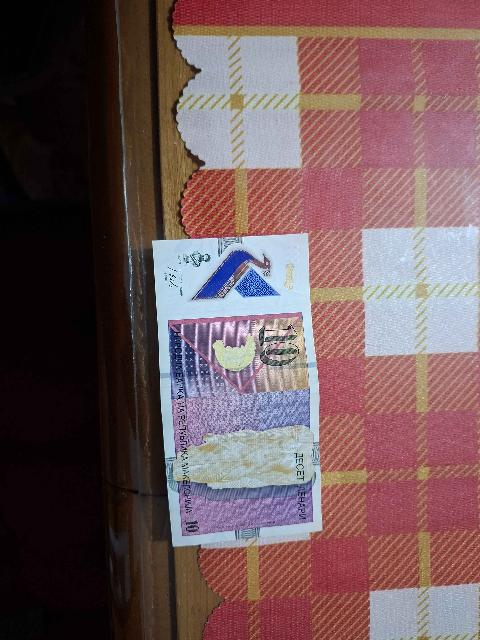note: (154, 235, 321, 545)
